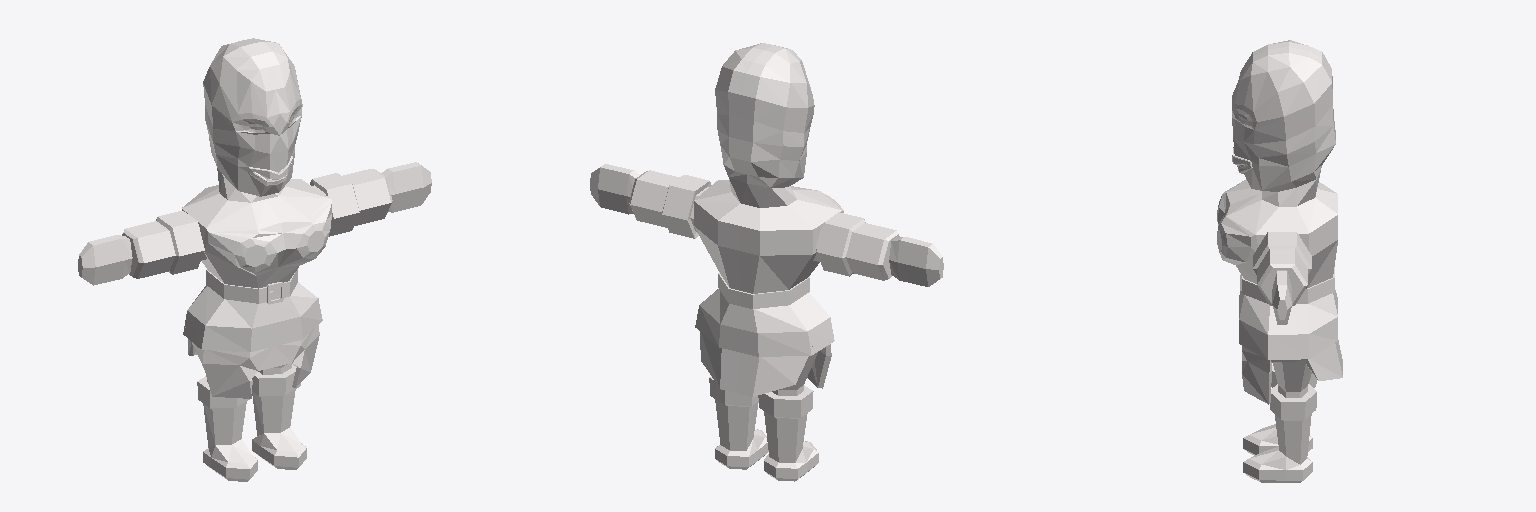
The model's file is princess.obj.
3 views of the same model, side by side, from view 1: azimuth 30°, elevation 25°; view 2: azimuth 150°, elevation 25°; view 3: azimuth 270°, elevation 25° (orthographic).
Visible parts, largest first — view 1: princess; view 2: princess; view 3: princess.
Boxes of the visible parts, <box> form: princess: <box>78,38,431,481</box>; princess: <box>590,43,943,481</box>; princess: <box>1217,40,1342,482</box>.
Bounding box in the file's own units: 1.12 × 1.28 × 0.3494.